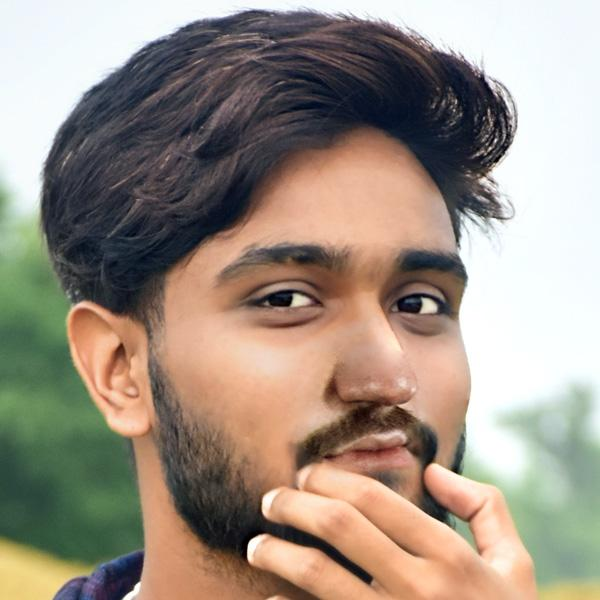Eyes: (235, 269, 332, 325), (380, 276, 461, 338)
